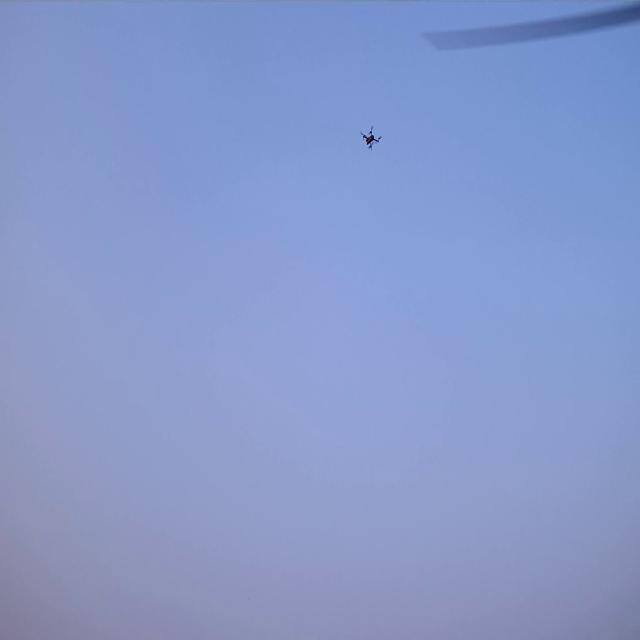UAV: (363, 129, 379, 149)
